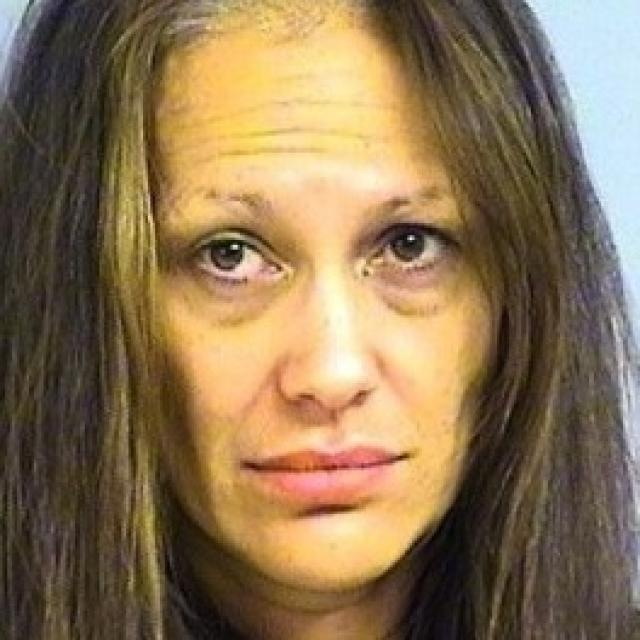Depress: (142, 18, 516, 593)
